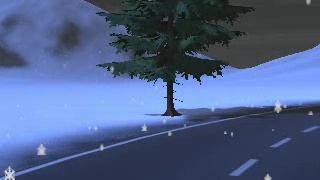Lane: (0, 104, 319, 179)
